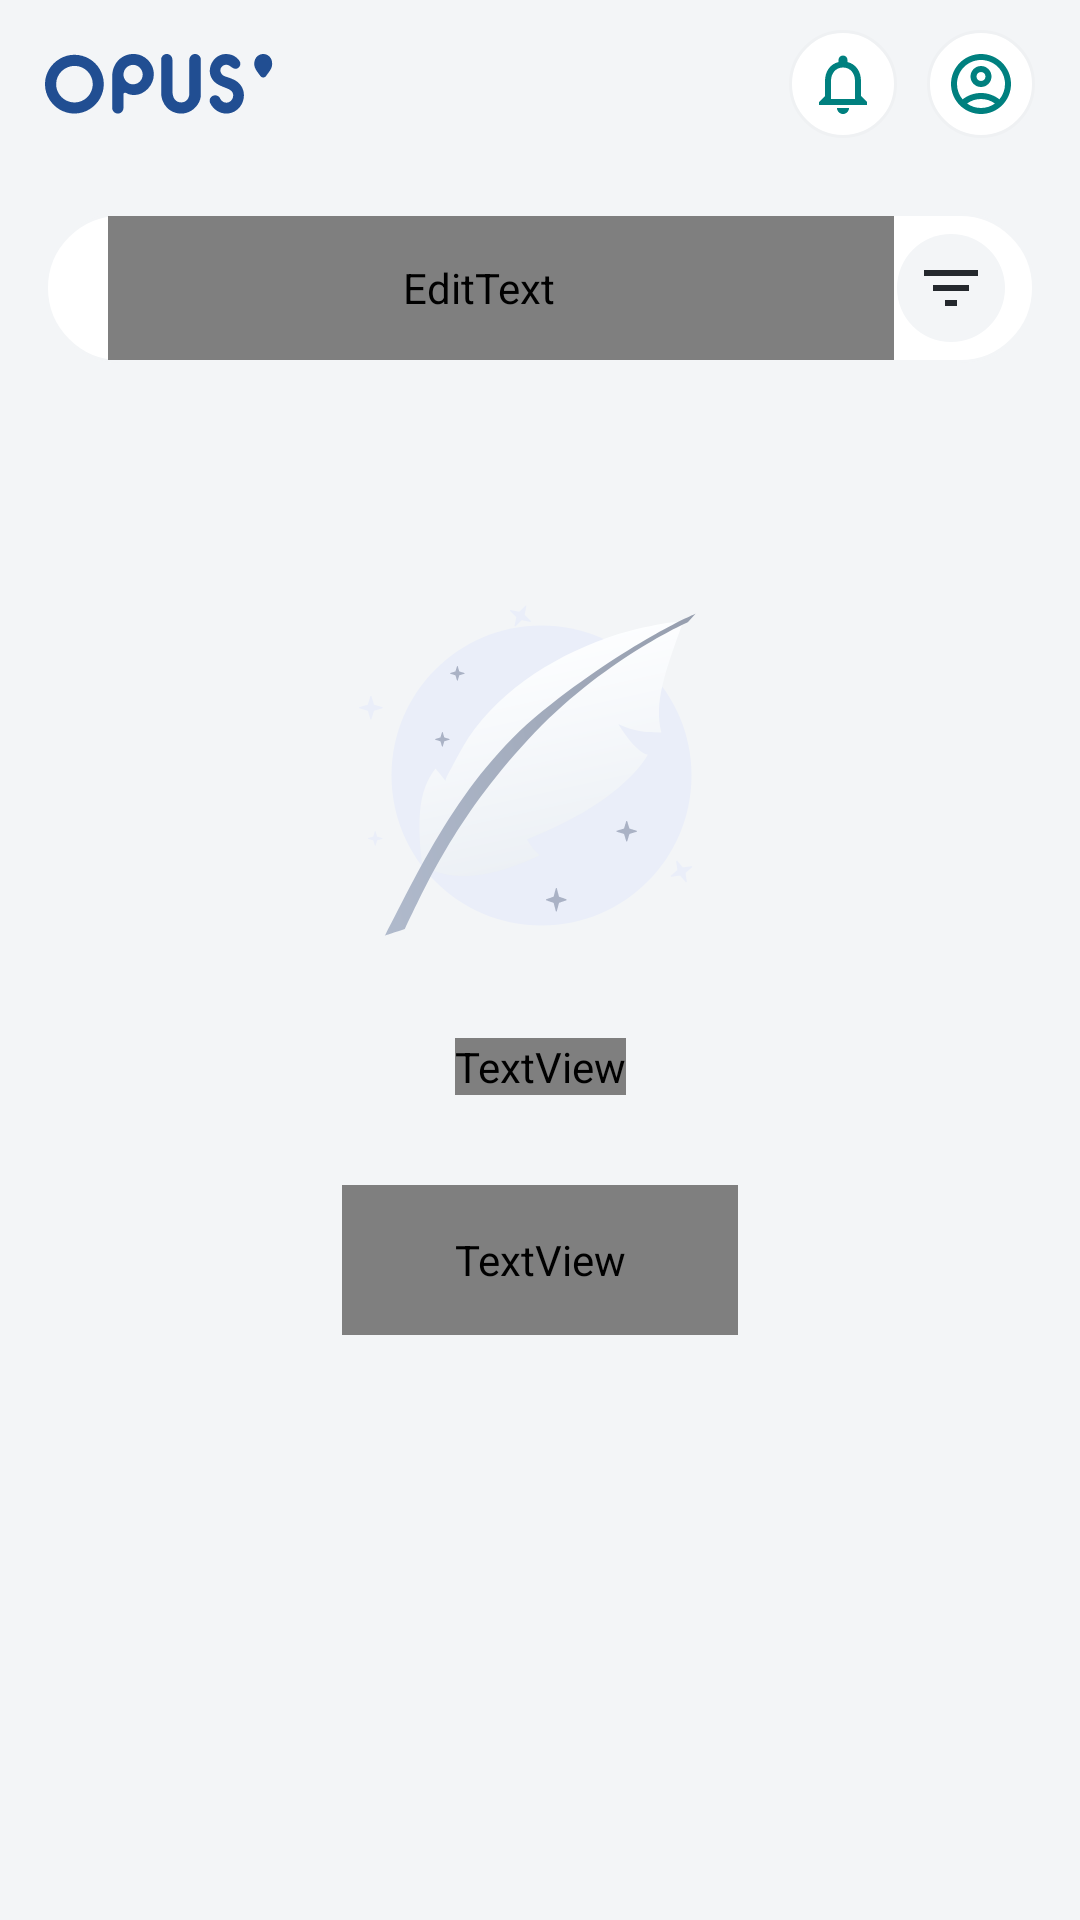

Icons on this 1080x1920 Android screen, each with its box as (x1, y1, x2, y2):
filter: (897, 234, 1005, 342)
notification: (792, 33, 894, 135)
profile: (930, 33, 1032, 135)
